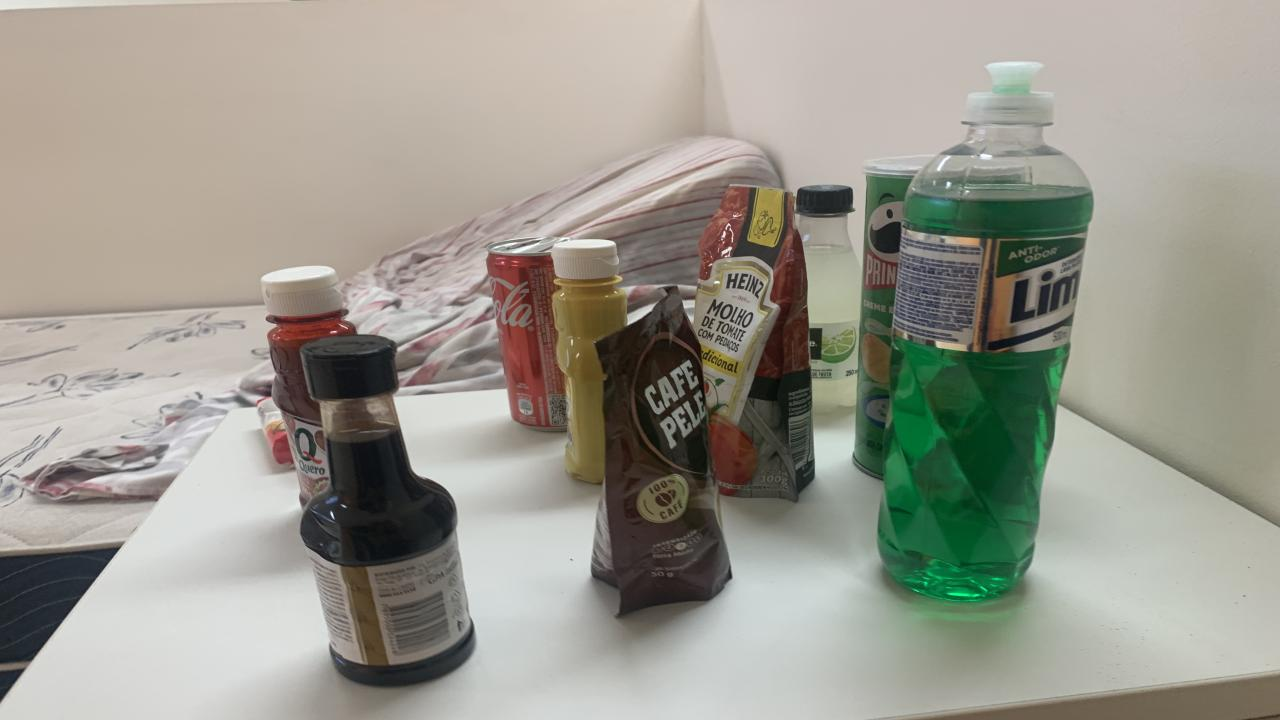Coffee-Pantry_Items: (592, 294, 730, 615)
Coke-Drinks: (488, 236, 570, 431)
Detergent-Cleanup_Items: (878, 62, 1092, 600)
English_Sauce-Pantry_Items: (300, 336, 475, 686)
Ketchup-Pantry_Items: (260, 266, 355, 504)
Mustard-Pantry_Items: (550, 240, 628, 484)
Pringles-Snacks: (852, 156, 932, 476)
Soap-Cleanup_Items: (258, 398, 292, 465)
Soda-Drinks: (795, 186, 862, 412)
Tomato_Sauce-Pantry_Items: (692, 188, 815, 501)
